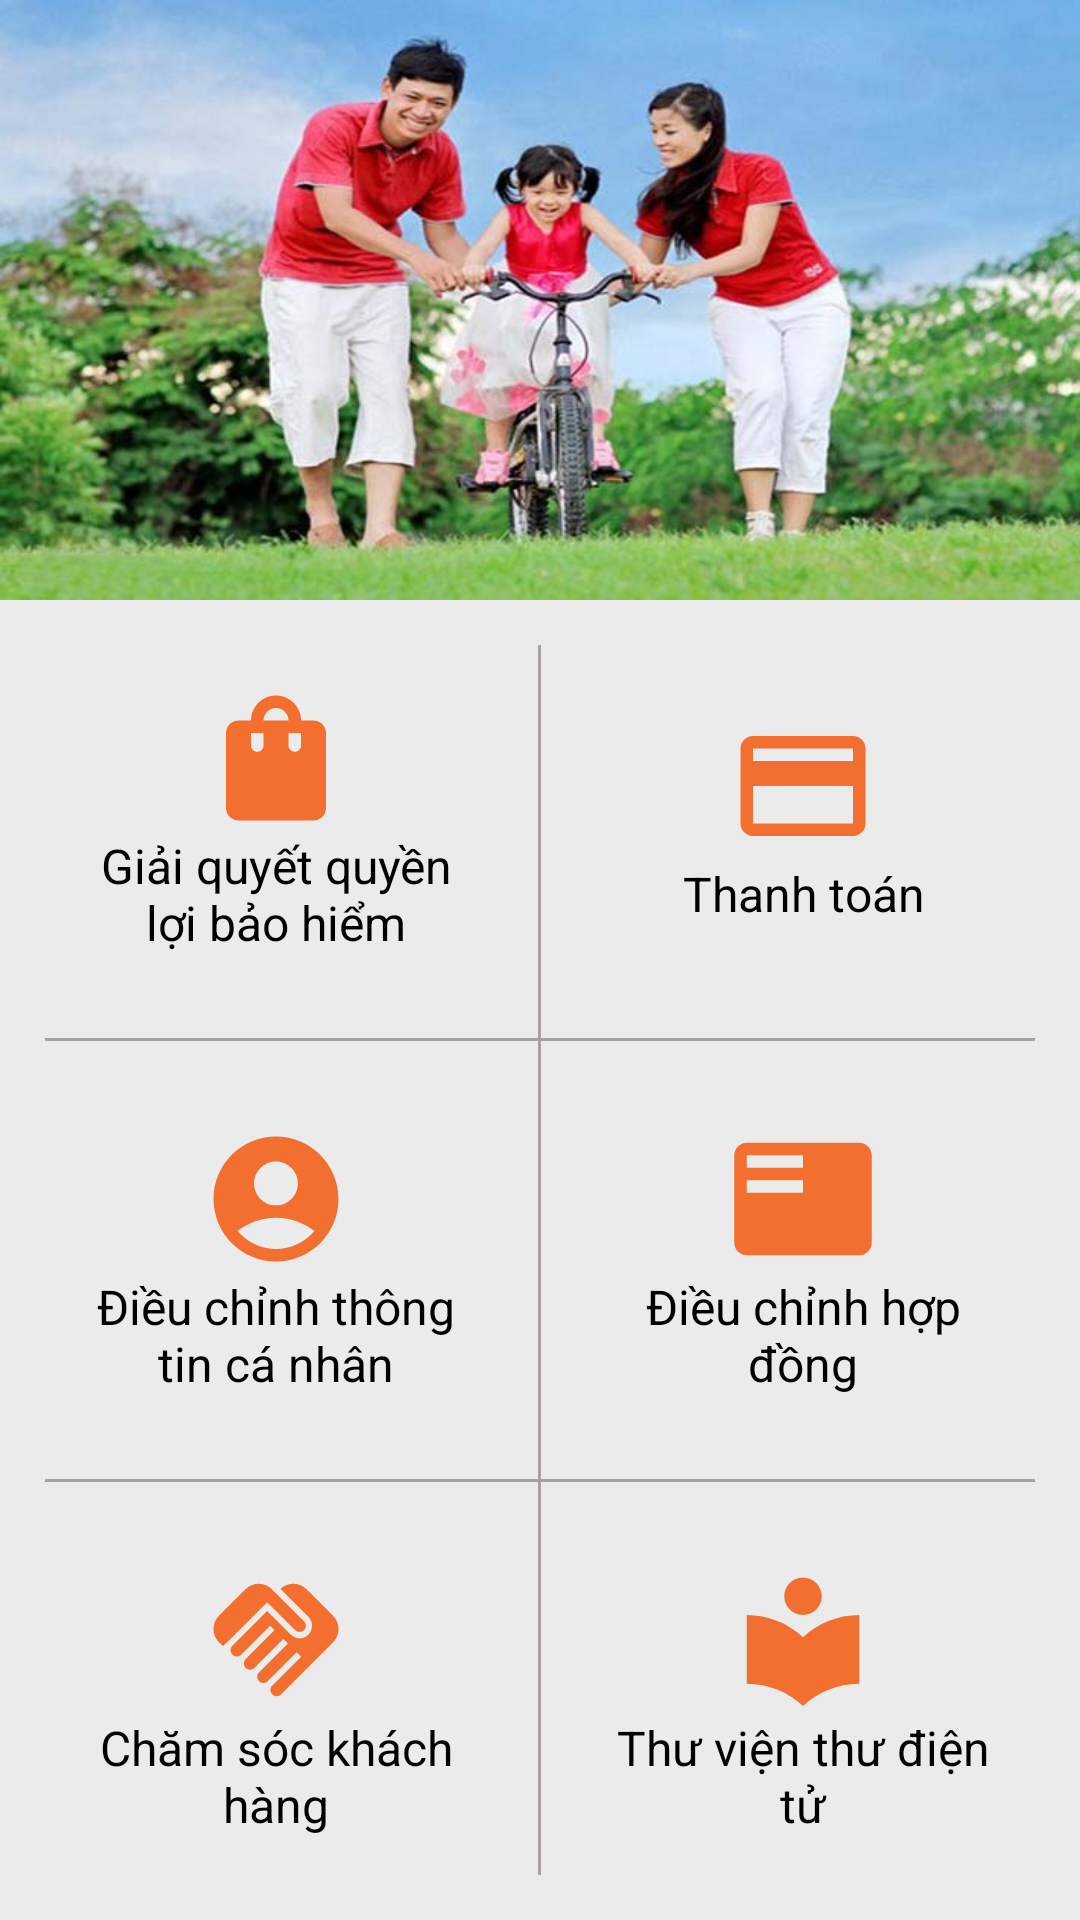

Where to tap for icons on this 1080px×1920px app screen, as point (x, y):
account: point (276, 1199)
bag: point (276, 758)
